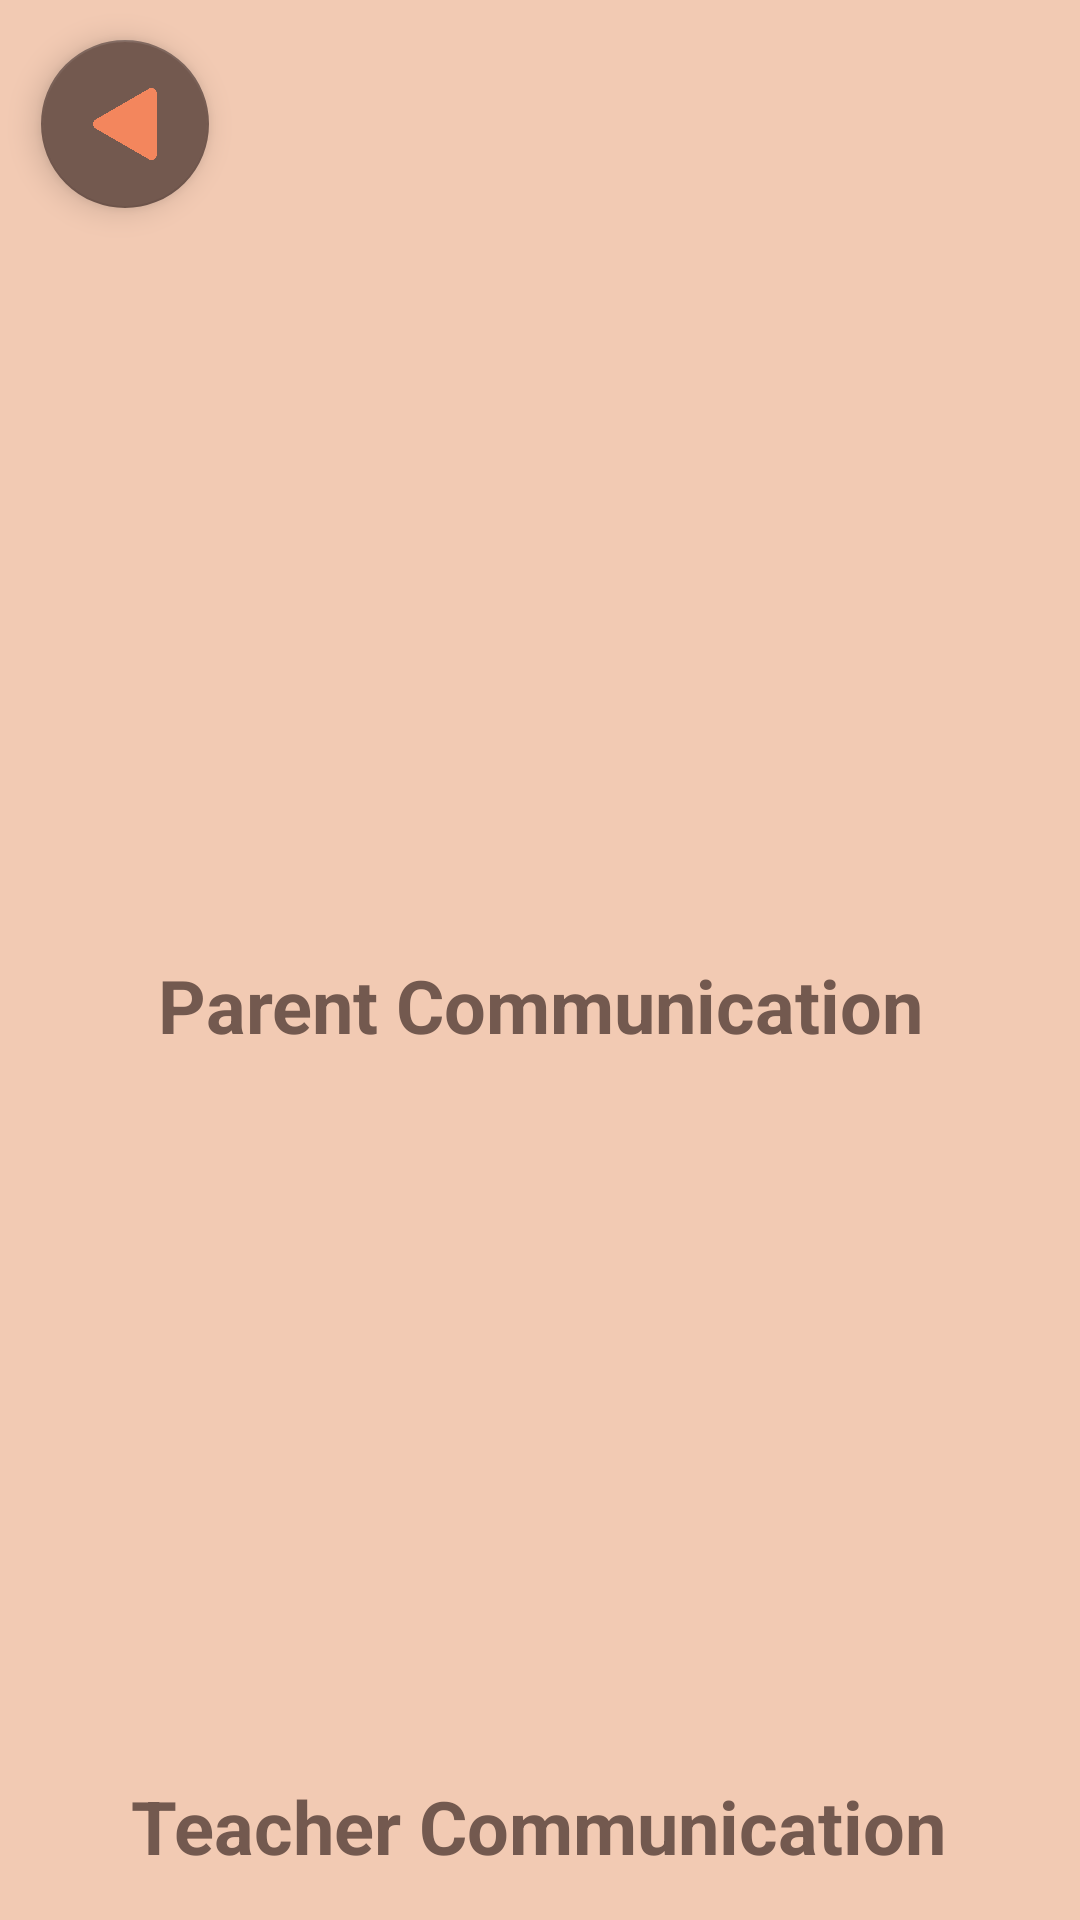

Point at icon controls on the screen. Image size 1080×1920, points as (x=x, y=y).
back: (x=125, y=124)
